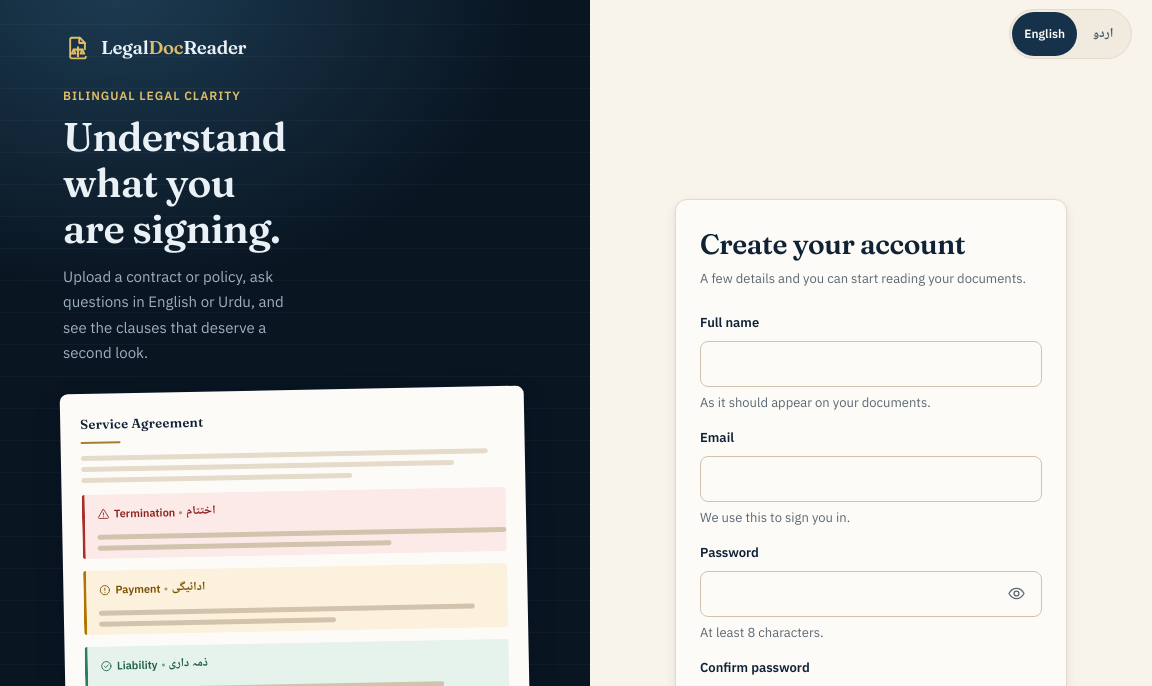
SignUp form › shows the duplicate-email error on the field after a 409
This screenshot has width=1152, height=686.
Type "Ayesha Khan" into the field labelled "Full name" at (871, 364), box [700,341,1042,387]
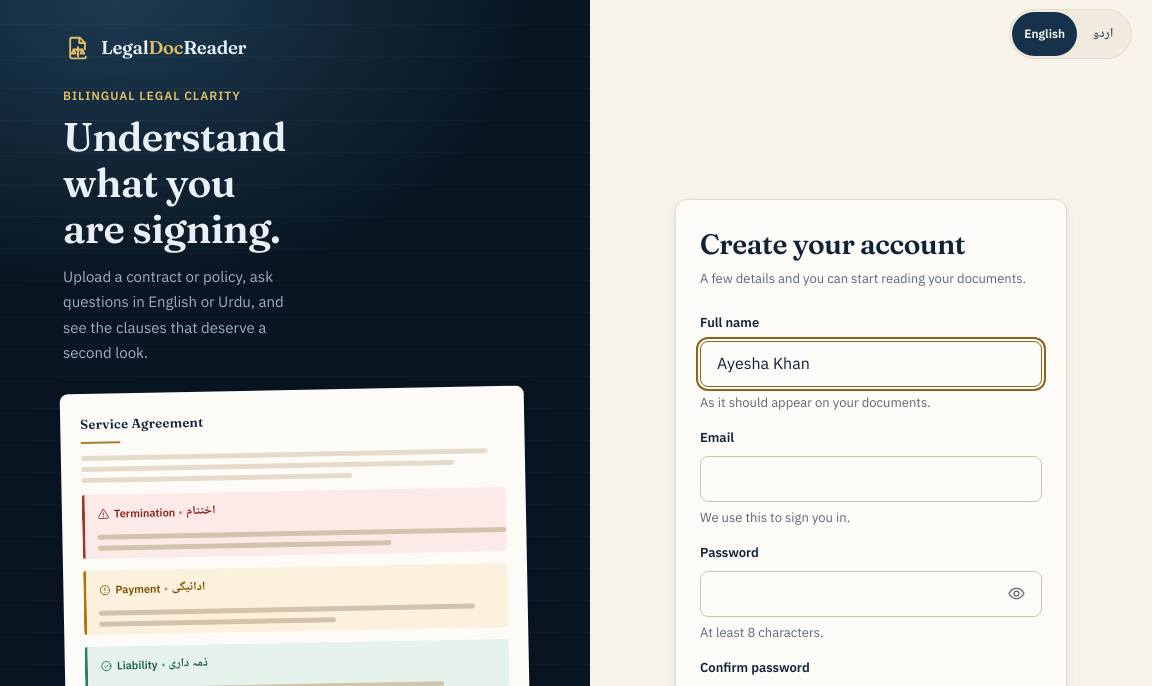
Type "ayesha@example.com" into the field labelled "Email" at (871, 479), box [700,456,1042,502]
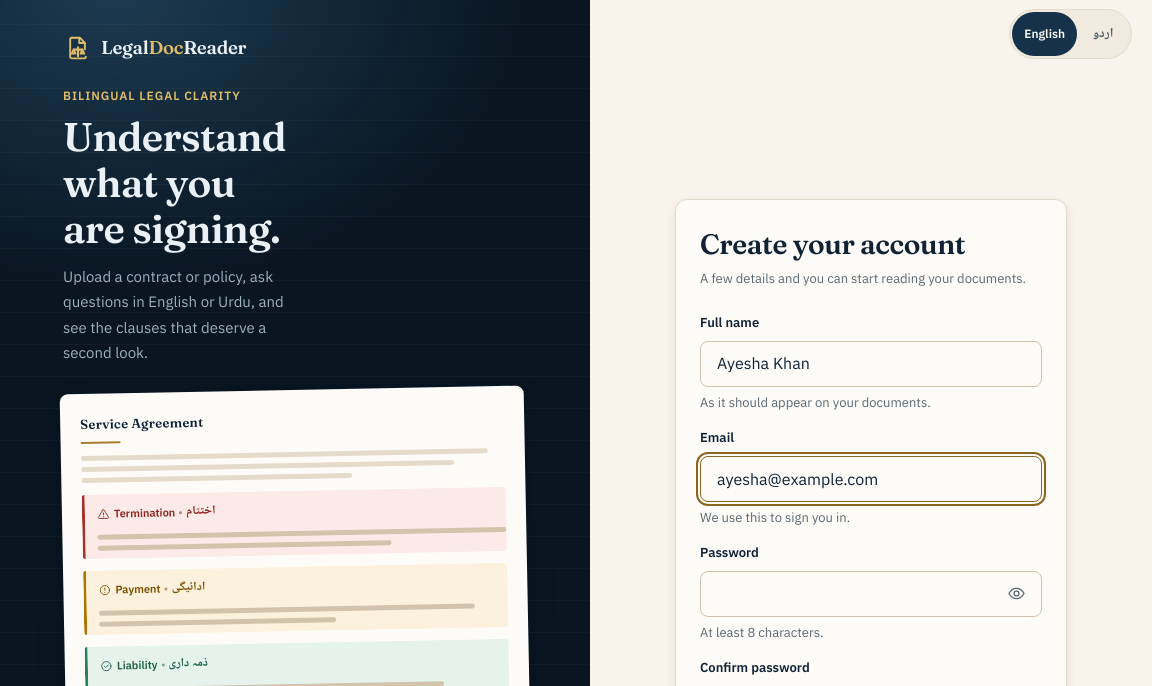
Type "S3cure-pass!" into the password field with id "signup-password" at (871, 594), box [700,571,1042,617]
(page scrolled)
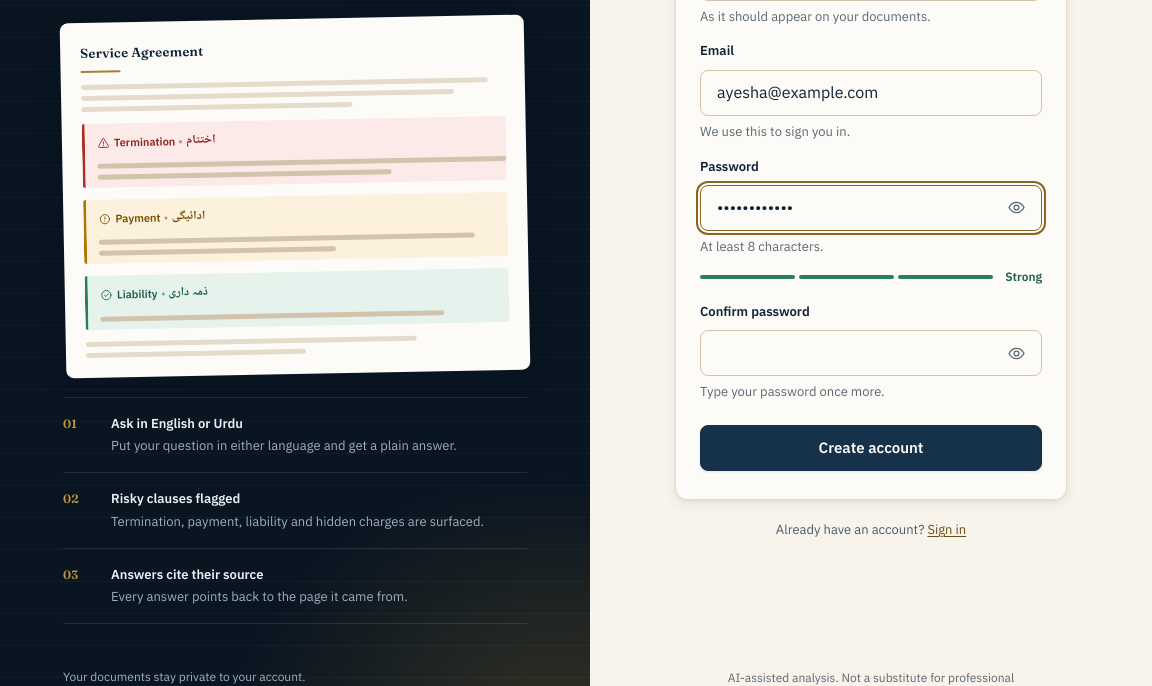
Type "S3cure-pass!" into the password field with id "signup-confirm-password" at (871, 353), box [700,330,1042,376]
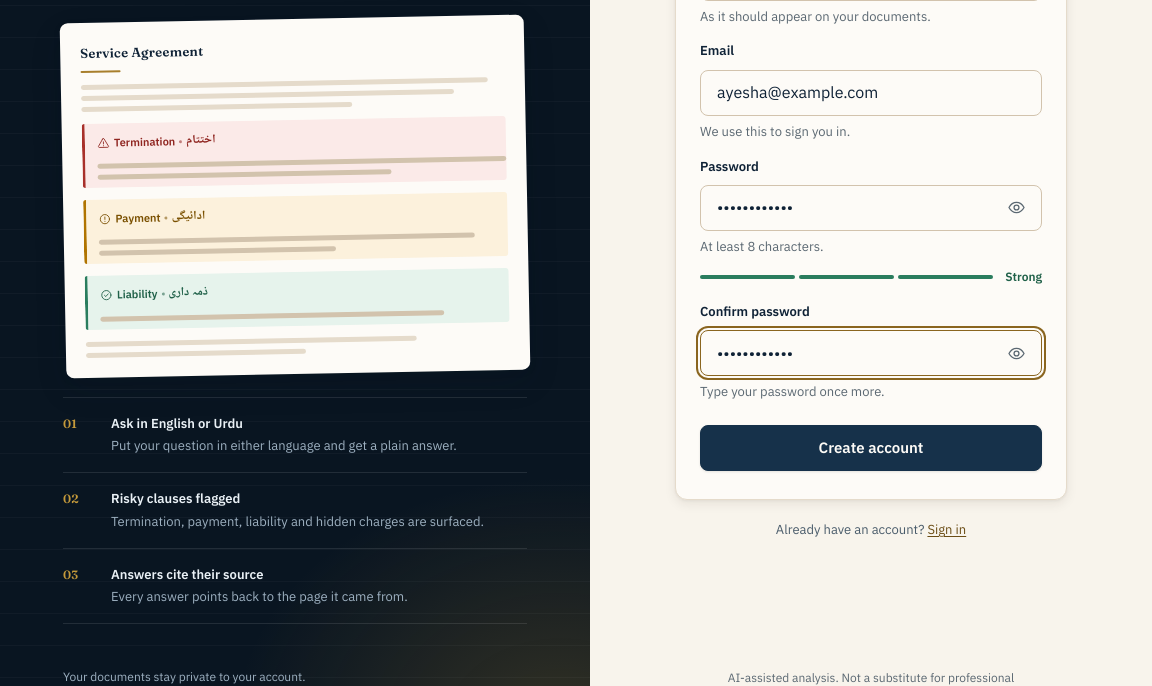
Click the button "Create account" at (871, 448), box [700,425,1042,471]
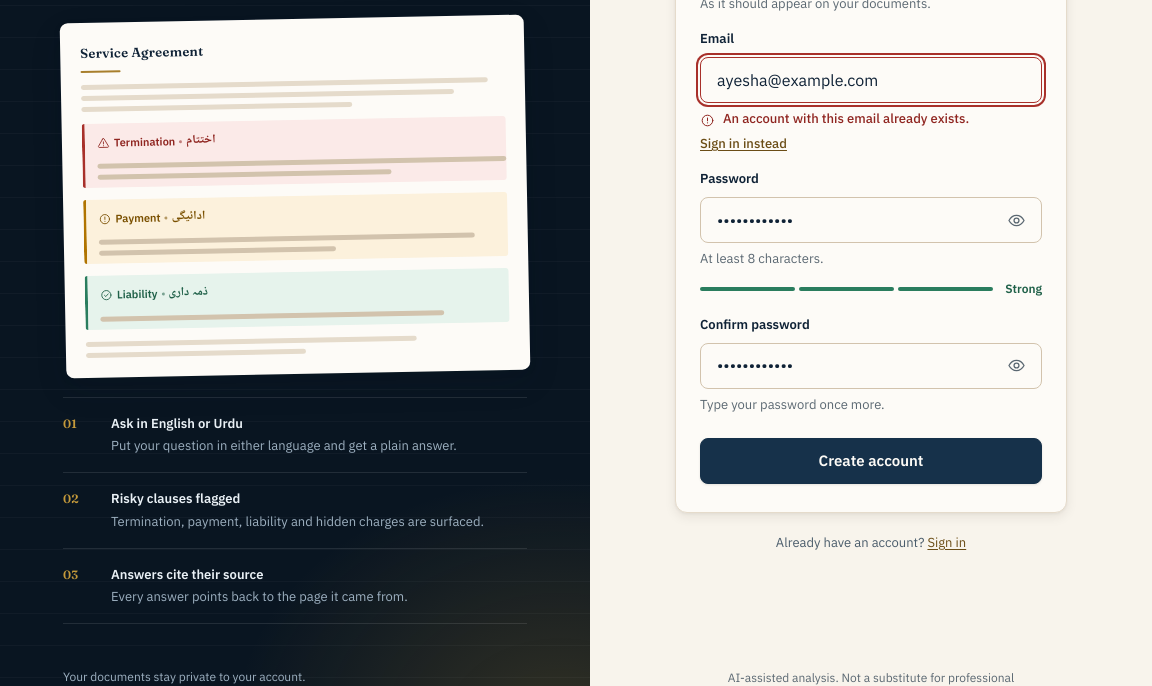
Result: the text "An account with this email already exists." is shown at [723,111,969,128]
Result: the link "Sign in instead" is shown at [700,135,787,152]
